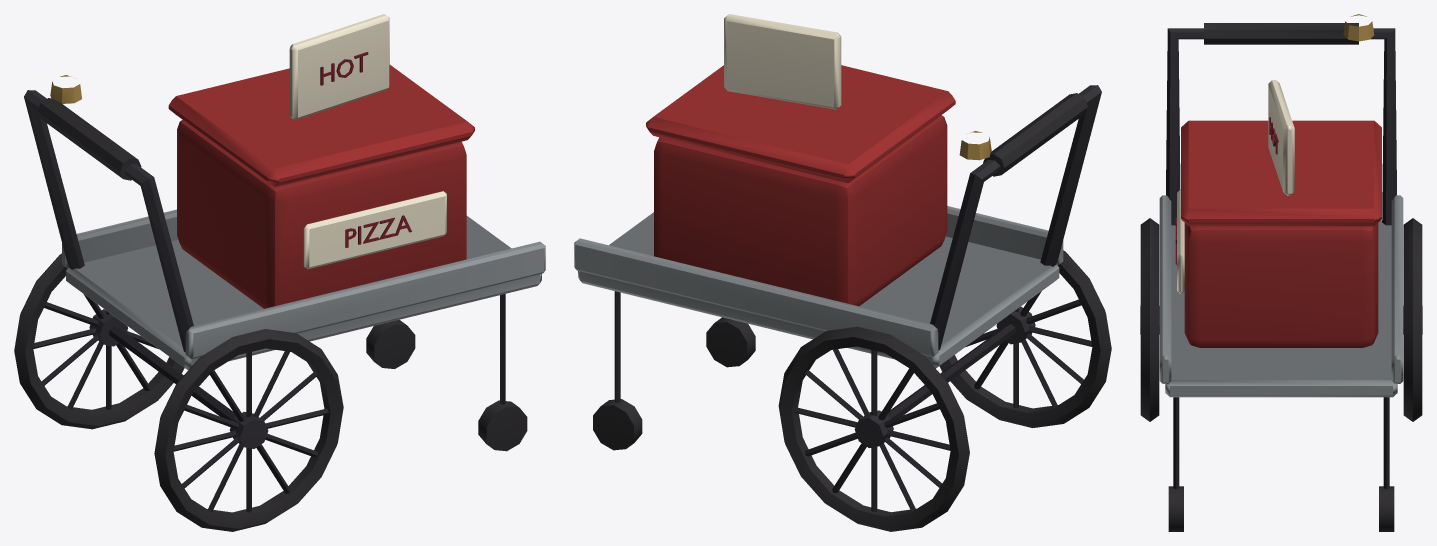
The model's file is env_cart.glb.
The picture shows the model from 3 angles, left to right: view 1: azimuth 30°, elevation 25°; view 2: azimuth 150°, elevation 25°; view 3: azimuth 270°, elevation 25°; orthographic projection. The views are drawn at different scales.
Parts seen in each view (by area): view 1: env_cart; view 2: env_cart; view 3: env_cart.
Part boxes in pixels (x1,y1,x2,y2): env_cart: [14, 14, 545, 531]; env_cart: [574, 14, 1111, 531]; env_cart: [1140, 14, 1422, 531].
Bounding box in the file's own units: 1.13 × 1.09 × 0.73.
